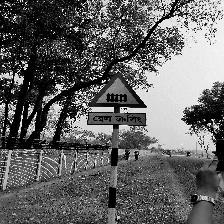Rail-crossing: (87, 73, 148, 127)
